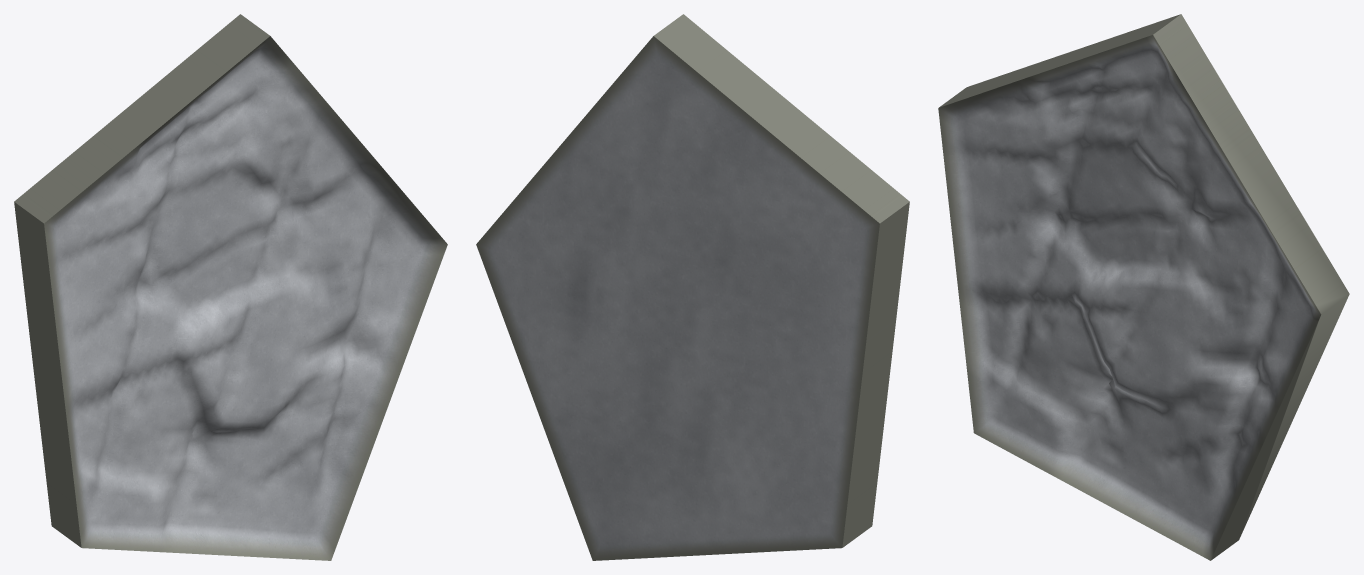
File: wall-lod1.glb
3 renders of one model, left to right at view 1: azimuth 30°, elevation 25°; view 2: azimuth 150°, elevation 25°; view 3: azimuth 330°, elevation 25°, orthographic. The views are drawn at different scales.
Visible parts, largest first — view 1: Wall_LOD1; view 2: Wall_LOD1; view 3: Wall_LOD1.
Part boxes in pixels (x1,y1,x2,y2): Wall_LOD1: [14, 14, 447, 560]; Wall_LOD1: [476, 14, 909, 560]; Wall_LOD1: [938, 14, 1349, 560].
Size of the model in its own units: 15.57 by 19.89 by 2.
Materials: 1 (1 with a texture image).
